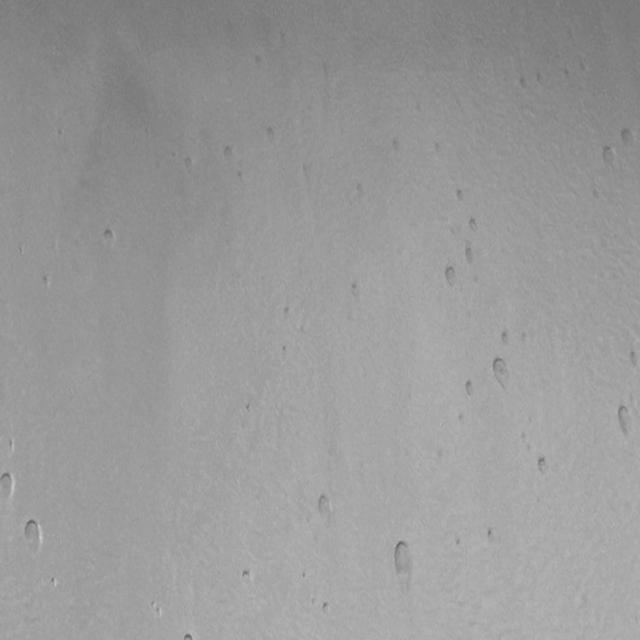pin holes: (388, 538, 415, 582), (613, 404, 639, 444), (20, 519, 45, 556), (487, 357, 512, 388), (312, 490, 333, 520), (441, 262, 461, 290), (618, 125, 638, 151), (600, 146, 620, 172), (0, 472, 16, 502), (262, 122, 281, 147), (461, 243, 479, 269), (348, 279, 367, 303), (352, 181, 371, 204), (100, 227, 118, 250), (536, 453, 554, 476), (278, 302, 296, 325), (465, 216, 484, 237), (278, 341, 295, 363), (463, 376, 479, 399), (515, 73, 533, 93), (234, 168, 251, 189), (222, 144, 238, 165), (452, 186, 468, 206), (41, 270, 56, 291), (390, 135, 406, 154), (182, 154, 197, 174), (432, 138, 447, 156), (240, 568, 254, 587), (627, 351, 639, 372), (152, 602, 166, 620), (500, 329, 513, 348), (485, 527, 498, 545), (455, 409, 467, 427), (320, 601, 332, 618), (6, 438, 18, 455), (242, 400, 254, 417), (592, 188, 605, 202), (49, 575, 60, 591), (453, 536, 464, 552), (183, 629, 199, 639), (300, 571, 312, 582), (254, 55, 263, 69), (536, 72, 544, 87), (520, 430, 528, 444), (526, 441, 531, 458)
